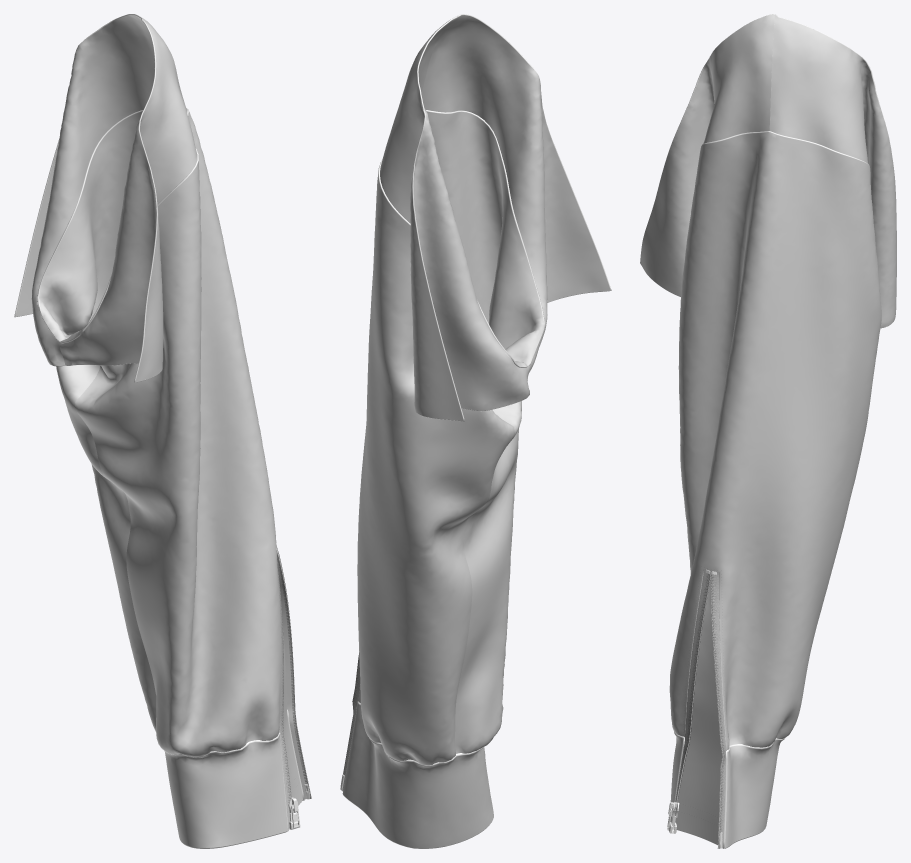
3 renders of one model, left to right at view 1: azimuth 30°, elevation 25°; view 2: azimuth 150°, elevation 25°; view 3: azimuth 270°, elevation 25°, orthographic. The views are drawn at different scales.
Visible parts, largest first — view 1: UP73-L.面料_袖片左_UP73-L02.M_front, UP73-L.面料_后片合并件_UP73-L31.M_back, UP73-L.面料_袖片左_UP73-L02.M_back, UP73-L.配套面料_袖口左_UP73-L00.M_front, UP73-L.面料_前片合并件_UP73-L30.M_back, UP73-L.面料_前片合并件_UP73-L30.M_front, 辅料_拉链_金属拉链_布带, 辅料_拉链_金属拉链_拉齿, UP73-L.面料_袖口衩贴左_UP73-L01.M_front, UP73-L.面料_袖片左_UP73-L02.M_side, UP73-L.面料_前片合并件_UP73-L30.M_side, UP73-L.配套面料_袖口左_UP73-L00.M_side; view 2: UP73-L.面料_袖片左_UP73-L02.M_front, UP73-L.面料_前片合并件_UP73-L30.M_back, UP73-L.面料_袖片左_UP73-L02.M_back, UP73-L.面料_后片合并件_UP73-L31.M_back, UP73-L.配套面料_袖口左_UP73-L00.M_front, UP73-L.面料_后片合并件_UP73-L31.M_front, UP73-L.面料_袖片左_UP73-L02.M_side, UP73-L.面料_后片合并件_UP73-L31.M_side, UP73-L.配套面料_袖口左_UP73-L00.M_side, UP73-L.面料_前片合并件_UP73-L30.M_side; view 3: UP73-L.面料_袖片左_UP73-L02.M_front, UP73-L.面料_后片合并件_UP73-L31.M_front, UP73-L.面料_前片合并件_UP73-L30.M_front, UP73-L.面料_袖口衩贴左_UP73-L01.M_front, UP73-L.配套面料_袖口左_UP73-L00.M_front, 辅料_拉链_金属拉链_布带, 辅料_拉链_金属拉链_拉齿, UP73-L.面料_袖片左_UP73-L02.M_side, UP73-L.配套面料_袖口左_UP73-L00.M_side.
Part boxes in pixels (left/top/right/bottom): UP73-L.面料_袖片左_UP73-L02.M_front: left=56, top=109, right=281, bottom=756; UP73-L.面料_后片合并件_UP73-L31.M_back: left=15, top=15, right=154, bottom=365; UP73-L.面料_袖片左_UP73-L02.M_back: left=39, top=111, right=142, bottom=341; UP73-L.配套面料_袖口左_UP73-L00.M_front: left=164, top=734, right=287, bottom=847; UP73-L.面料_前片合并件_UP73-L30.M_back: left=59, top=121, right=156, bottom=365; UP73-L.面料_前片合并件_UP73-L30.M_front: left=135, top=19, right=197, bottom=382; 辅料_拉链_金属拉链_布带: left=276, top=548, right=311, bottom=829; 辅料_拉链_金属拉链_拉齿: left=277, top=548, right=311, bottom=800; UP73-L.面料_袖口衩贴左_UP73-L01.M_front: left=283, top=631, right=302, bottom=805; UP73-L.面料_袖片左_UP73-L02.M_side: left=36, top=108, right=281, bottom=728; UP73-L.面料_前片合并件_UP73-L30.M_side: left=65, top=19, right=160, bottom=382; UP73-L.配套面料_袖口左_UP73-L00.M_side: left=168, top=709, right=304, bottom=848; UP73-L.面料_袖片左_UP73-L02.M_front: left=357, top=170, right=521, bottom=765; UP73-L.面料_前片合并件_UP73-L30.M_back: left=421, top=15, right=610, bottom=380; UP73-L.面料_袖片左_UP73-L02.M_back: left=427, top=111, right=544, bottom=366; UP73-L.面料_后片合并件_UP73-L31.M_back: left=413, top=18, right=529, bottom=410; UP73-L.配套面料_袖口左_UP73-L00.M_front: left=342, top=703, right=493, bottom=848; UP73-L.面料_后片合并件_UP73-L31.M_front: left=380, top=21, right=463, bottom=421; UP73-L.面料_袖片左_UP73-L02.M_side: left=360, top=110, right=544, bottom=684; UP73-L.面料_后片合并件_UP73-L31.M_side: left=412, top=16, right=520, bottom=421; UP73-L.配套面料_袖口左_UP73-L00.M_side: left=343, top=701, right=493, bottom=848; UP73-L.面料_前片合并件_UP73-L30.M_side: left=457, top=14, right=611, bottom=302; UP73-L.面料_袖片左_UP73-L02.M_front: left=669, top=132, right=881, bottom=750; UP73-L.面料_后片合并件_UP73-L31.M_front: left=769, top=15, right=896, bottom=327; UP73-L.面料_前片合并件_UP73-L30.M_front: left=640, top=14, right=775, bottom=296; UP73-L.面料_袖口衩贴左_UP73-L01.M_front: left=675, top=575, right=722, bottom=844; UP73-L.配套面料_袖口左_UP73-L00.M_front: left=670, top=735, right=782, bottom=847; 辅料_拉链_金属拉链_布带: left=674, top=569, right=726, bottom=848; 辅料_拉链_金属拉链_拉齿: left=674, top=571, right=724, bottom=848; UP73-L.面料_袖片左_UP73-L02.M_side: left=684, top=131, right=869, bottom=750; UP73-L.配套面料_袖口左_UP73-L00.M_side: left=670, top=731, right=785, bottom=848.
Bounding box in the file's own units: 1.75 × 6.12 × 1.82.
Materials: 11 (4 with a texture image).
